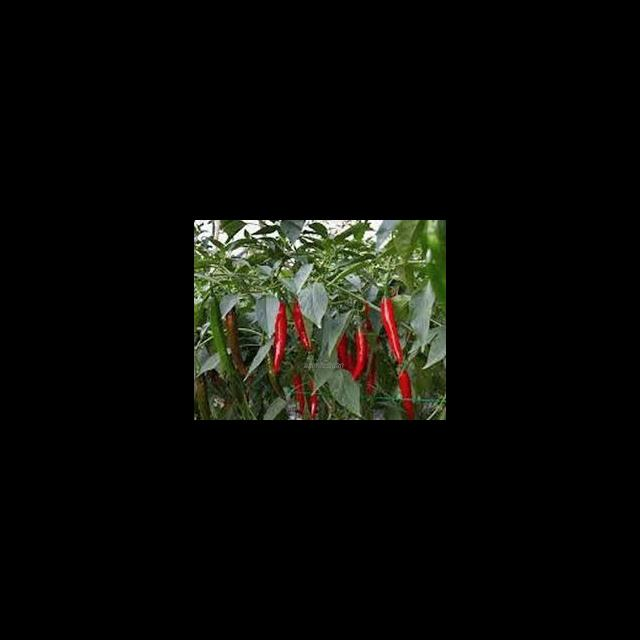chili_pepper: (207, 296, 232, 375), (380, 298, 407, 365), (270, 303, 287, 376), (292, 300, 314, 352), (397, 373, 418, 420), (354, 325, 367, 380)
